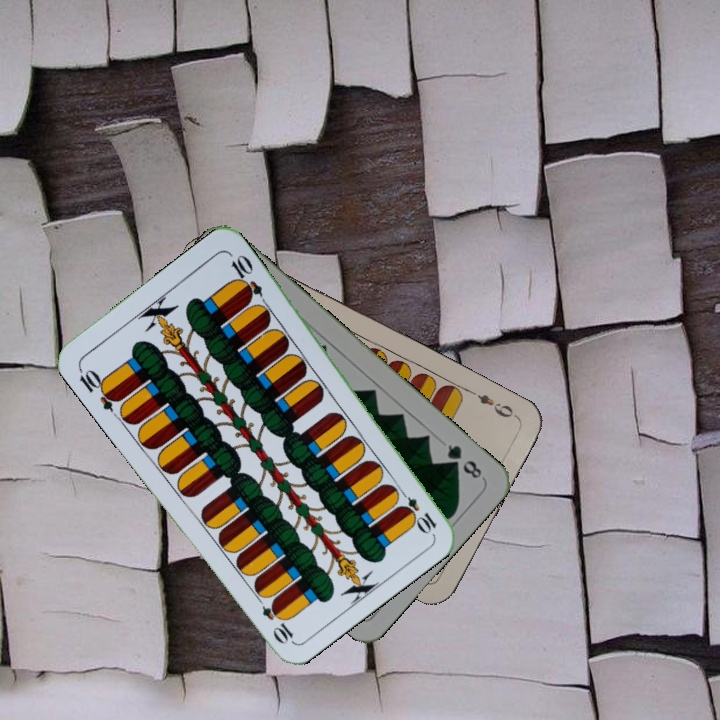E10: (74, 363, 123, 414), (393, 484, 439, 536)
E9: (465, 386, 519, 421)
G8: (442, 440, 485, 482)
